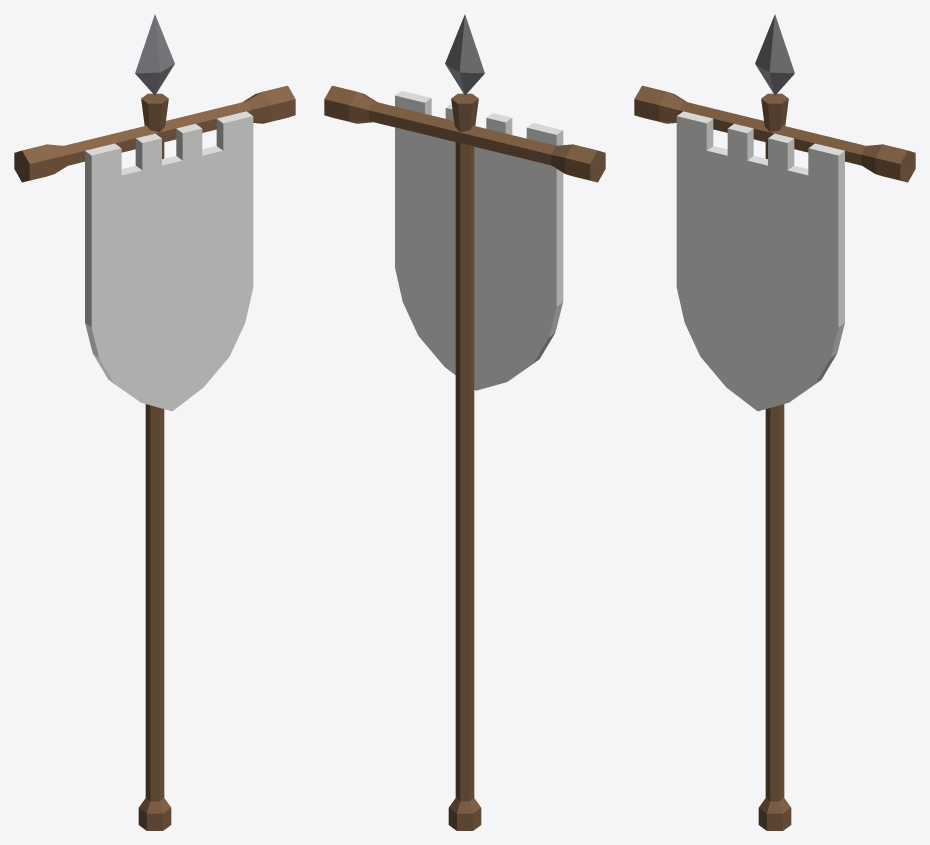
File: vfem2_standard.obj
The picture shows the model from 3 angles, left to right: view 1: azimuth 30°, elevation 25°; view 2: azimuth 150°, elevation 25°; view 3: azimuth 330°, elevation 25°; orthographic projection.
Bounding box in the file's own units: 0.7968 × 2.32 × 0.132.
